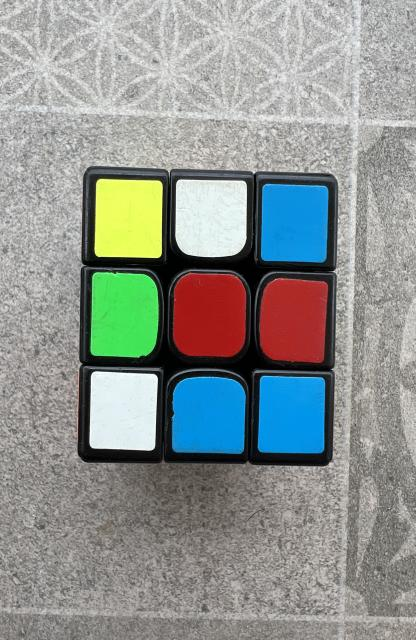Blue: (172, 376, 246, 454), (261, 184, 328, 262), (258, 376, 325, 454)
Green: (90, 272, 159, 358)
Red: (173, 272, 246, 358), (259, 279, 328, 362)
White: (176, 179, 247, 258), (89, 371, 158, 451)
Yellow: (94, 179, 162, 258)
